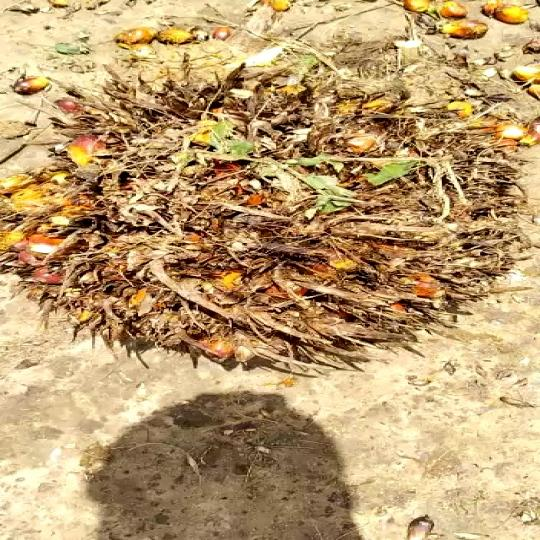terlalu masak: (0, 43, 540, 381)
